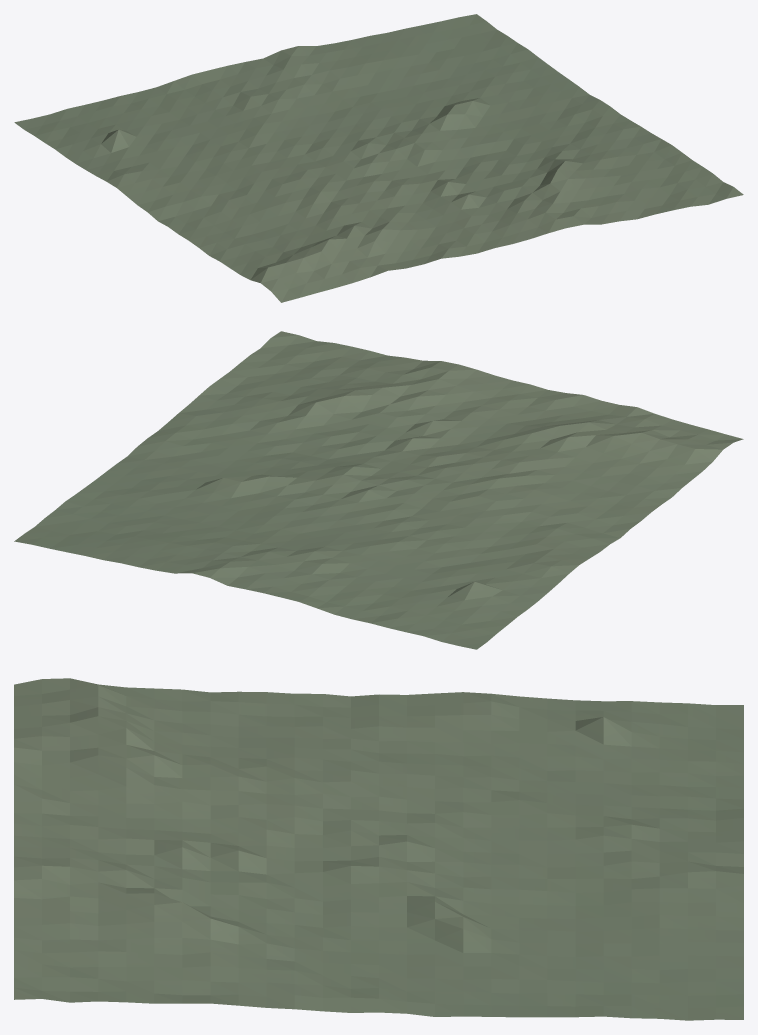
File: tile_3_0.glb
3 views of the same model, one above another, from view 1: azimuth 30°, elevation 25°; view 2: azimuth 150°, elevation 25°; view 3: azimuth 270°, elevation 25° (orthographic). The views are drawn at different scales.
Visible parts, largest first — view 1: geometry_0; view 2: geometry_0; view 3: geometry_0.
Part boxes in pixels (<box>): geometry_0: <box>14,14,743,302</box>; geometry_0: <box>14,331,743,649</box>; geometry_0: <box>14,678,743,1020</box>.
Bounding box in the file's own units: 127 × 8.37 × 127.
